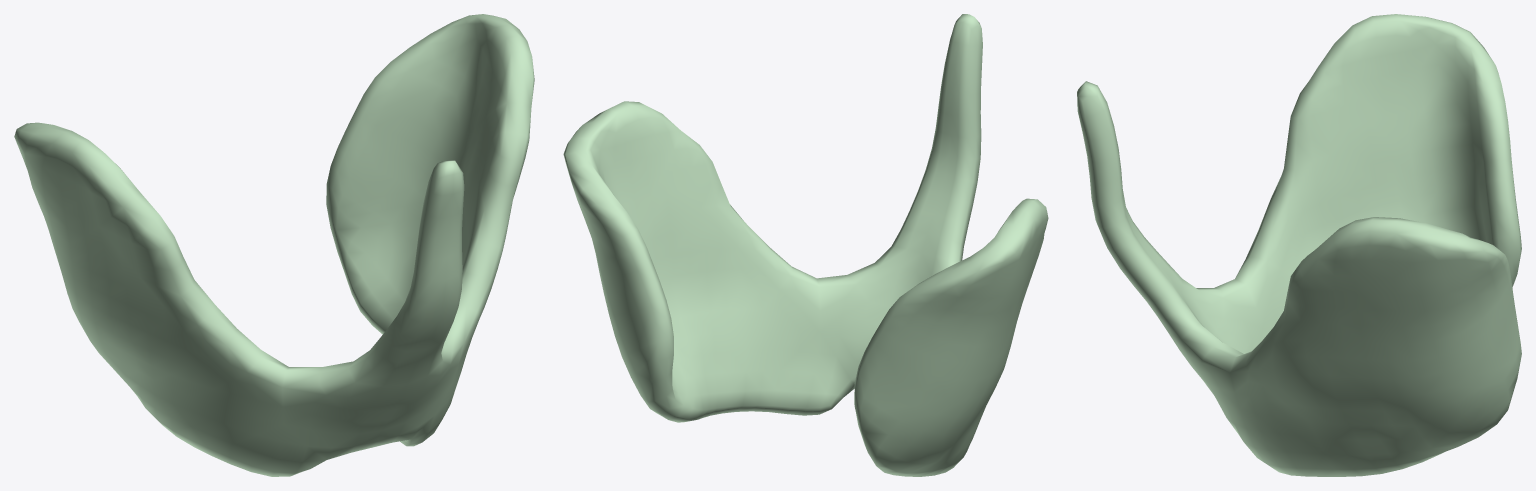
File: endocrine-cou.hi.glb
3 renders of one model, left to right at view 1: azimuth 30°, elevation 25°; view 2: azimuth 150°, elevation 25°; view 3: azimuth 270°, elevation 25°, orthographic. The views are drawn at different scales.
Parts seen in each view (by area): view 1: ZA-thyroid-gland; view 2: ZA-thyroid-gland; view 3: ZA-thyroid-gland.
Boxes of the visible parts, x1=… form: ZA-thyroid-gland: x1=14, y1=14, x2=534, y2=476; ZA-thyroid-gland: x1=563, y1=14, x2=1048, y2=476; ZA-thyroid-gland: x1=1077, y1=14, x2=1521, y2=476.
Size of the model in its own units: 0.0473 by 0.0349 by 0.0398.
